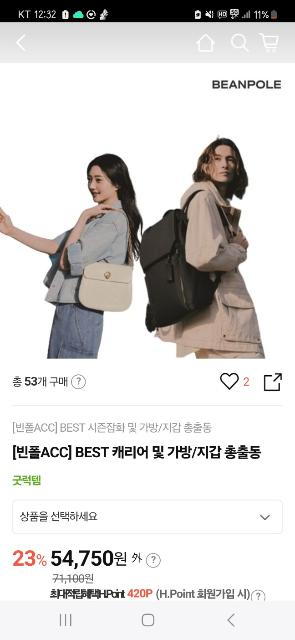Icon: (264, 372, 284, 392), (259, 32, 278, 52), (196, 34, 216, 52), (231, 33, 249, 53), (221, 372, 239, 390), (146, 552, 162, 568), (14, 34, 28, 52), (72, 375, 86, 389), (251, 590, 265, 600), (260, 514, 270, 520)
Image: (0, 63, 295, 359)
Text: (14, 444, 262, 460), (12, 549, 144, 569), (50, 588, 250, 600), (13, 421, 211, 433), (21, 512, 98, 522), (12, 375, 68, 387), (53, 574, 94, 584), (13, 476, 41, 486), (244, 378, 250, 386)
TextImageButton: (12, 500, 284, 534)
Toolbar: (0, 22, 295, 61)
UpperTaskBar: (0, 0, 295, 22)
